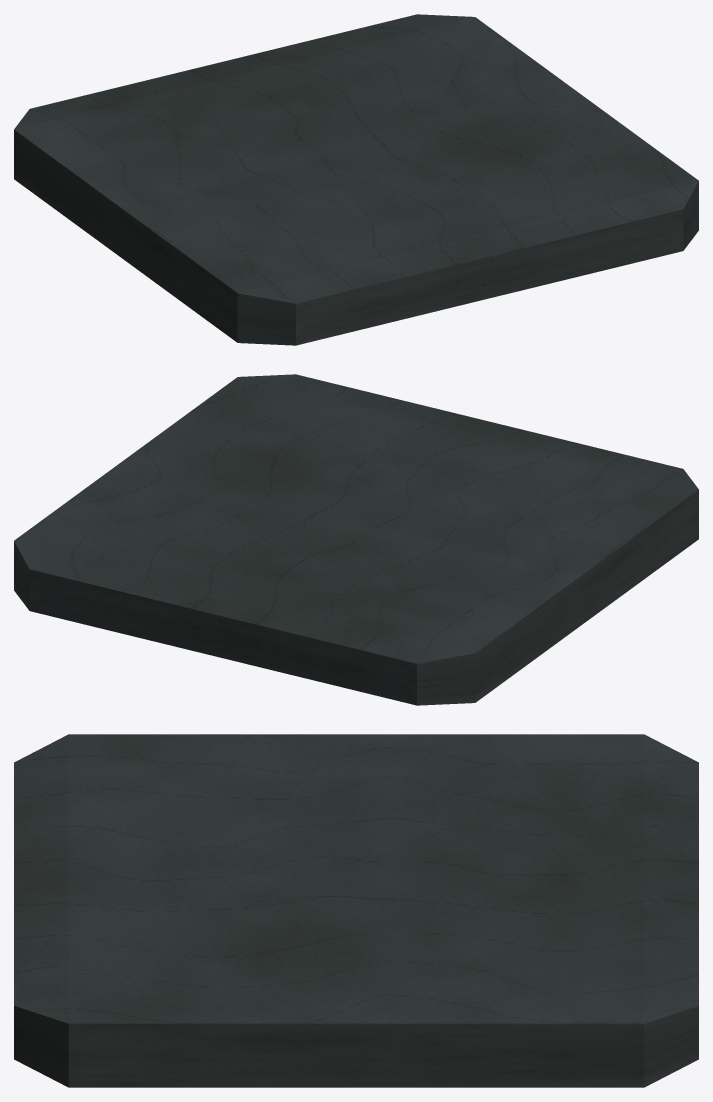
Rendered from floor-tile.glb.
The picture shows the model from 3 angles, top to bottom: view 1: azimuth 30°, elevation 25°; view 2: azimuth 150°, elevation 25°; view 3: azimuth 270°, elevation 25°; orthographic projection. The views are drawn at different scales.
Parts seen in each view (by area): view 1: tile; view 2: tile; view 3: tile.
Part boxes in pixels (<box>): tile: <box>14,14,698,345</box>; tile: <box>14,374,698,705</box>; tile: <box>14,734,698,1087</box>.
Bounding box in the file's own units: 1.94 × 0.2 × 1.94.
1 material, 1 textured.
